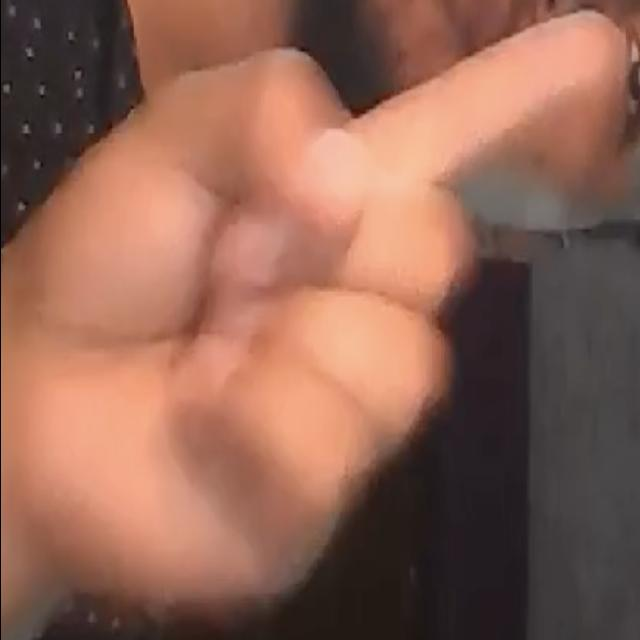Z: (4, 1, 628, 610)
